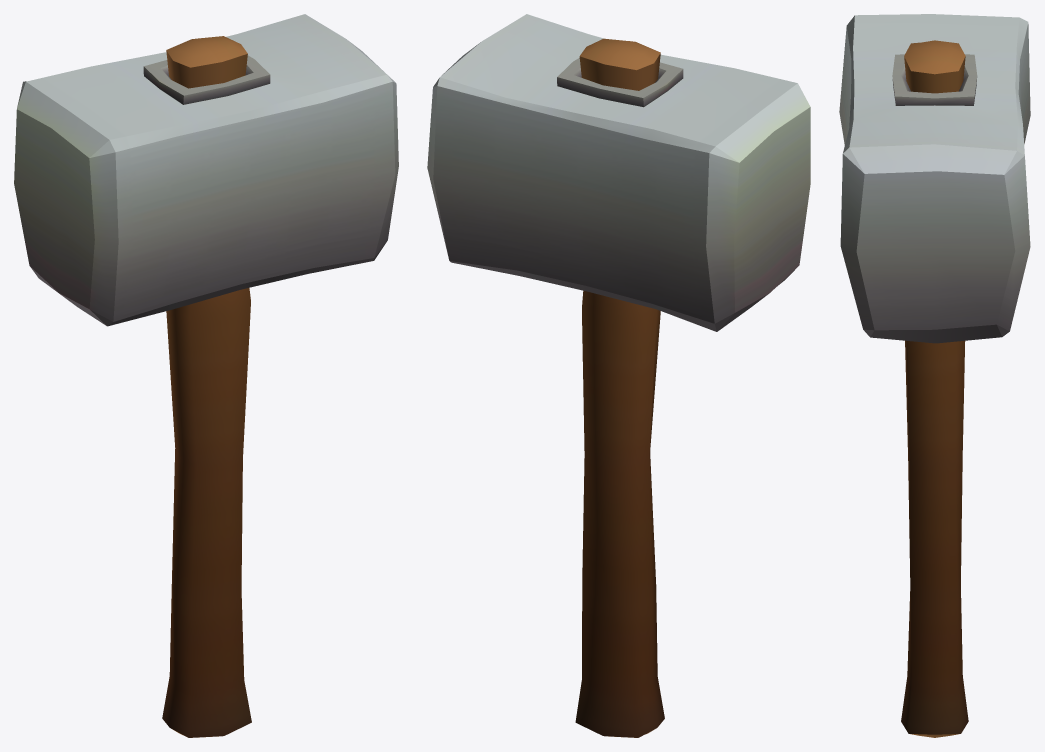
Rendered from Hammer_02.glb.
The picture shows the model from 3 angles, left to right: view 1: azimuth 30°, elevation 25°; view 2: azimuth 150°, elevation 25°; view 3: azimuth 270°, elevation 25°; orthographic projection.
Visible parts, largest first — view 1: Hammer_02; view 2: Hammer_02; view 3: Hammer_02.
Part boxes in pixels (x1,y1,x2,y2): Hammer_02: (14, 14, 398, 737); Hammer_02: (427, 14, 810, 737); Hammer_02: (839, 14, 1030, 737).
Size of the model in its own units: 0.4901 by 1.03 by 0.263.
1 material, 1 textured.
